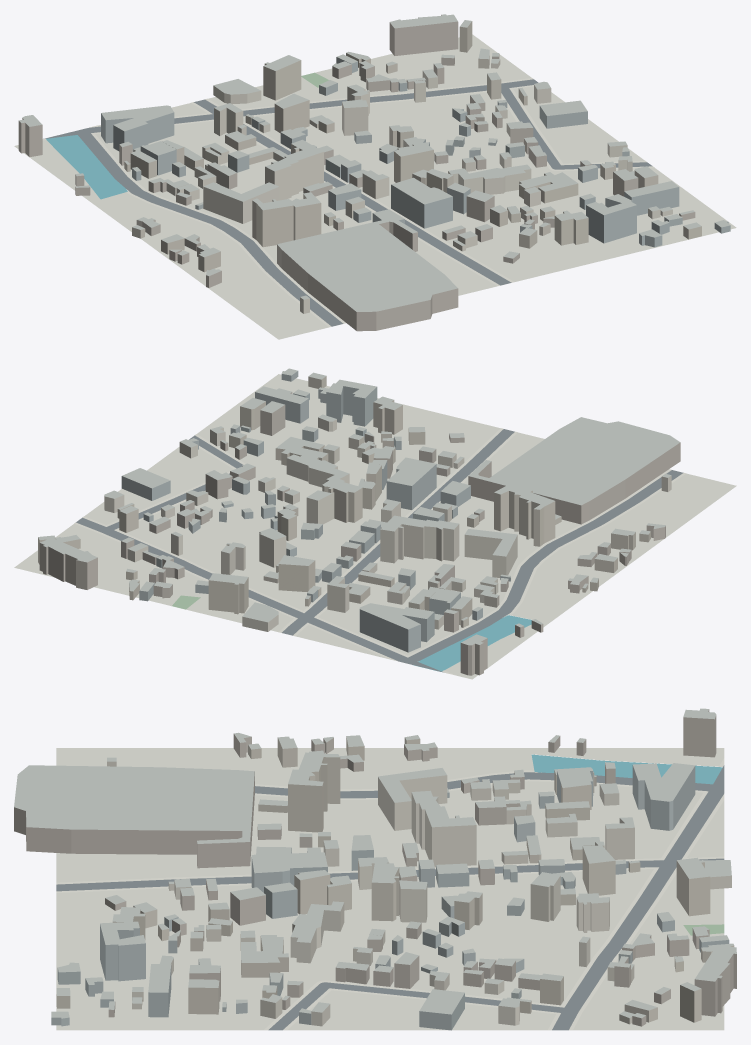
3 views of the same model, one above another, from view 1: azimuth 30°, elevation 25°; view 2: azimuth 150°, elevation 25°; view 3: azimuth 270°, elevation 25° (orthographic). The views are drawn at different scales.
Visible parts, largest first — view 1: city; view 2: city; view 3: city.
Part boxes in pixels (x1=…): city: x1=14, y1=14, x2=736, y2=339; city: x1=14, y1=368, x2=736, y2=679; city: x1=14, y1=708, x2=736, y2=1030.
Bounding box in the file's own units: 505 × 38.68 × 541.
